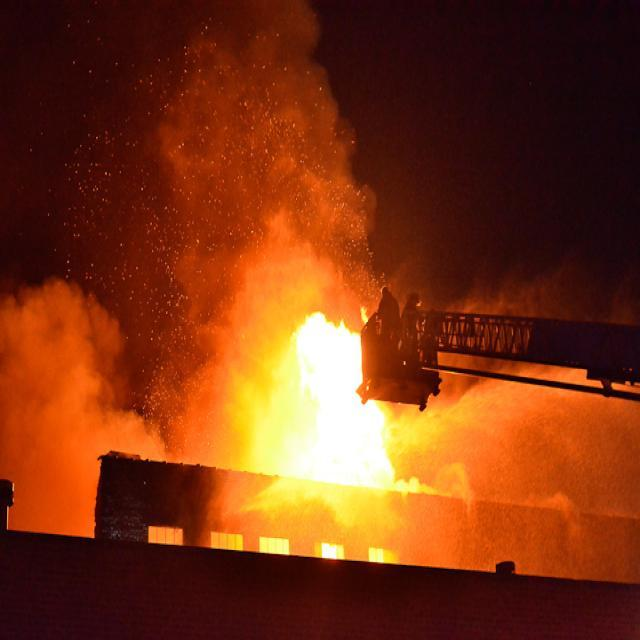Fire: (278, 322, 362, 473)
